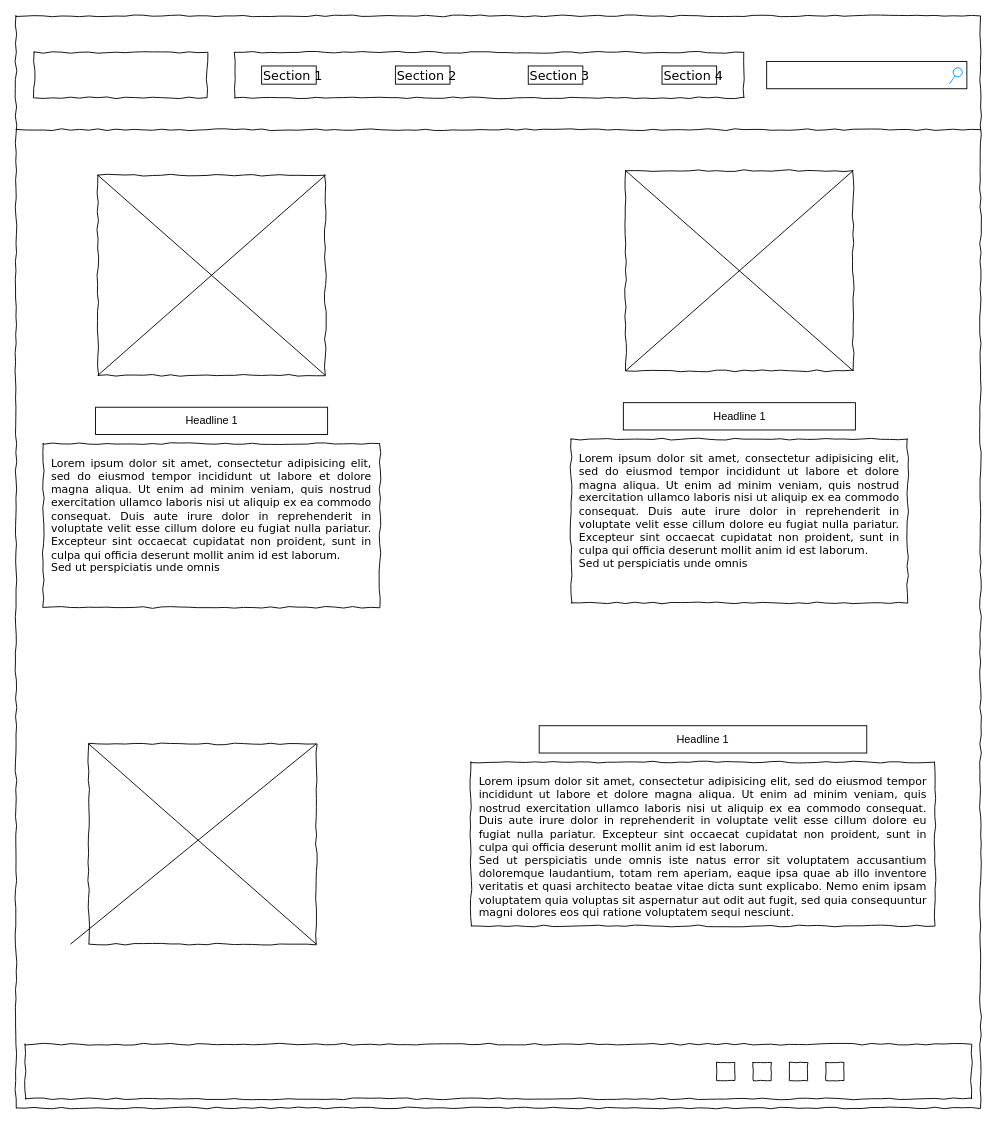
This 996x1124 diagram has some shape labels left out. The box of each missing label's shape, as (x1, y1, x2, y2) in pixels:
LOGO: (33, 51, 207, 98)
Lorem ipsum dolor si olore magna aliqua. Ut enim: (24, 1043, 971, 1099)
Search: (766, 61, 967, 89)
